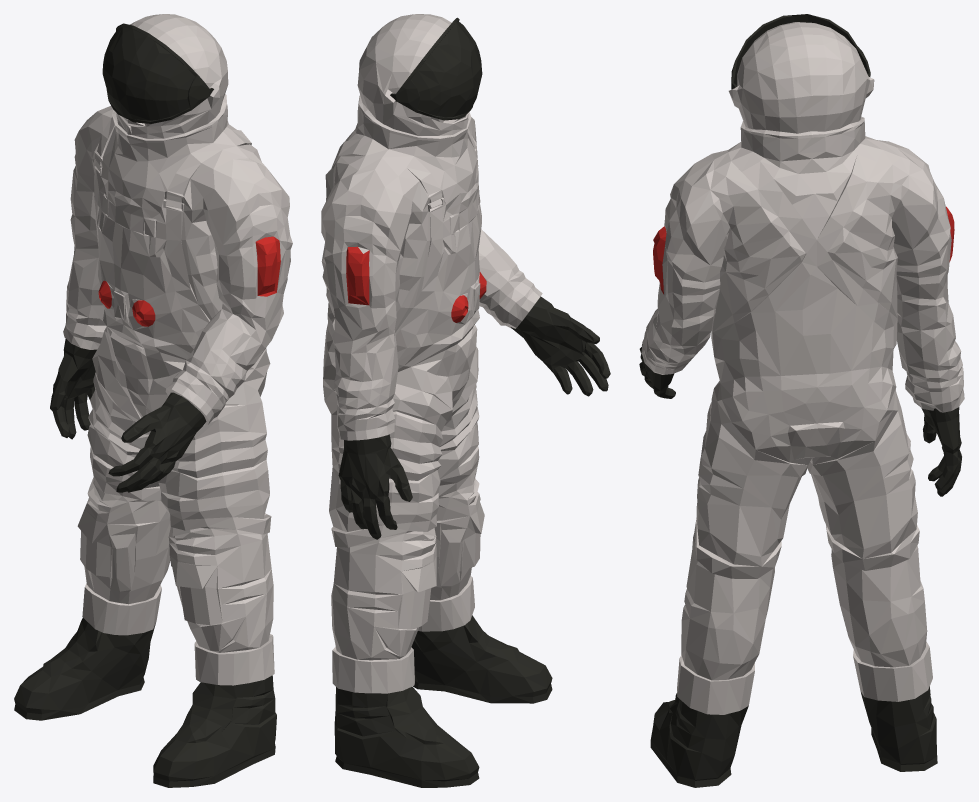
Rendered from 06 Astronaut_1.FBX.
3 views of the same model, side by side, from view 1: azimuth 30°, elevation 25°; view 2: azimuth 150°, elevation 25°; view 3: azimuth 270°, elevation 25° (orthographic). The views are drawn at different scales.
Visible parts, largest first — view 1: Astronaut_1; view 2: Astronaut_1; view 3: Astronaut_1.
Part boxes in pixels (x1,y1,x2,y2): Astronaut_1: [14, 14, 292, 787]; Astronaut_1: [321, 14, 610, 787]; Astronaut_1: [639, 14, 964, 787].
Bounding box in the file's own units: 537 × 1780 × 715.
